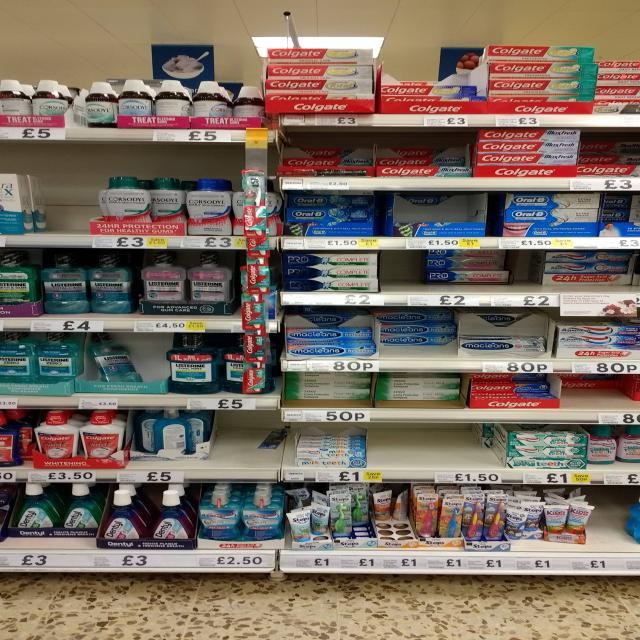void: (370, 425, 478, 467), (219, 413, 279, 467), (42, 166, 86, 233), (594, 490, 624, 545), (383, 252, 423, 292)
